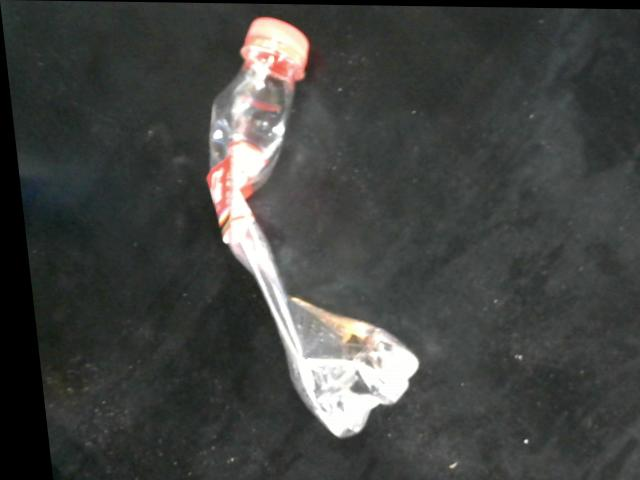bottle: (205, 14, 416, 448)
